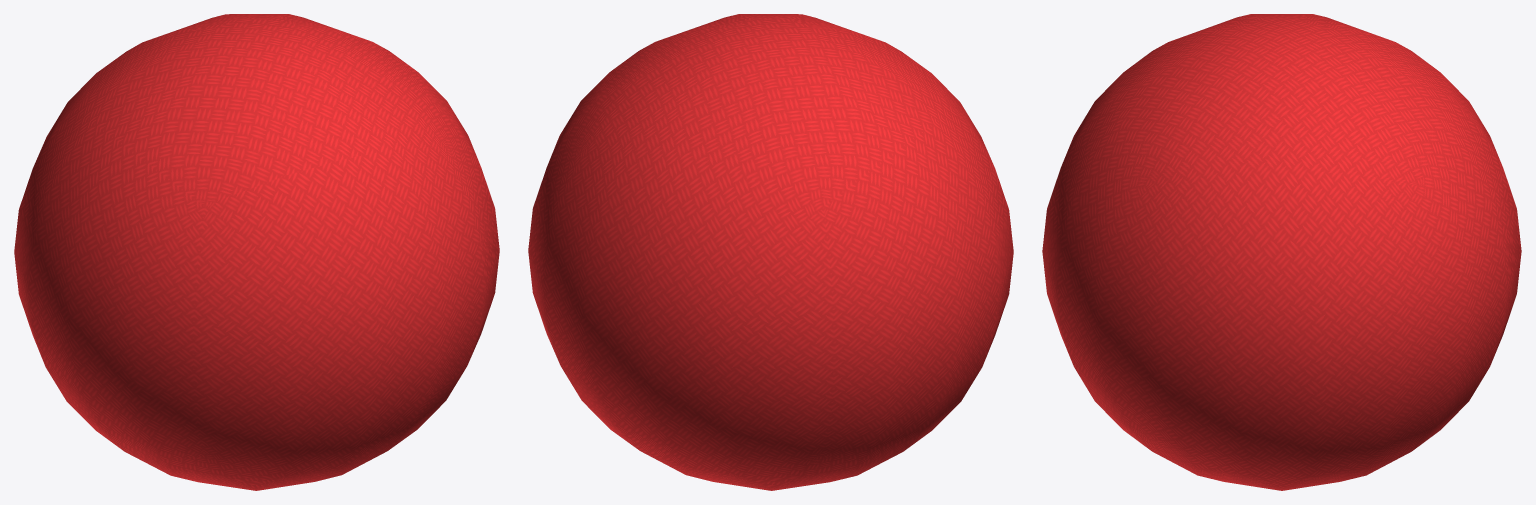
Rendered from Dodgeball_ball.fbx.
3 views of the same model, side by side, from view 1: azimuth 30°, elevation 25°; view 2: azimuth 150°, elevation 25°; view 3: azimuth 270°, elevation 25° (orthographic).
Visible parts, largest first — view 1: Dodgeball_ball; view 2: Dodgeball_ball; view 3: Dodgeball_ball.
Boxes of the visible parts, x1,y1,x2,y2 form: Dodgeball_ball: (14,14,499,490); Dodgeball_ball: (528,14,1013,490); Dodgeball_ball: (1042,14,1521,490).
Size of the model in its own units: 0.22 by 0.22 by 0.22.
